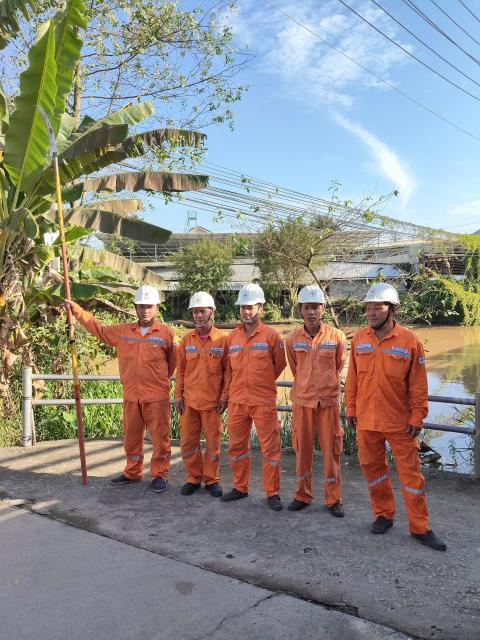helmet: (351, 279, 410, 306), (231, 281, 280, 304), (128, 281, 166, 309), (186, 284, 217, 309), (297, 282, 329, 306)
shoes: (410, 520, 449, 552), (100, 466, 142, 485), (367, 512, 398, 533), (288, 491, 315, 514), (324, 497, 350, 519), (265, 488, 287, 512), (204, 474, 223, 500), (218, 487, 254, 499), (151, 471, 168, 494), (178, 478, 201, 494)
